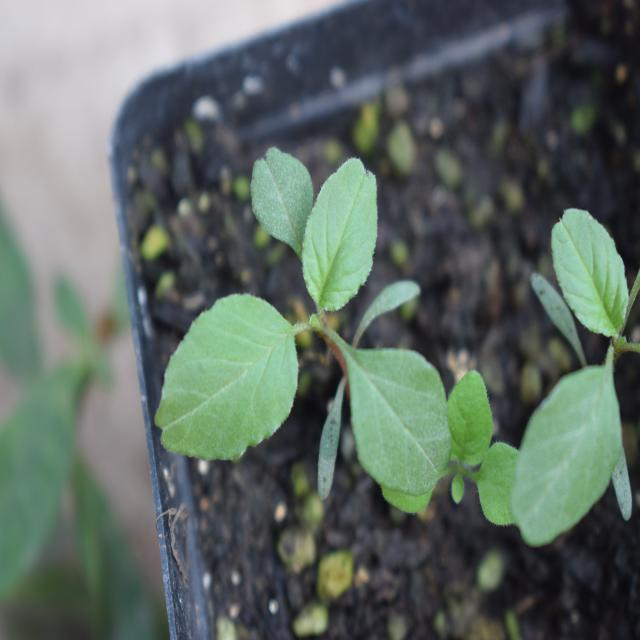pigweed: (162, 144, 457, 501)
